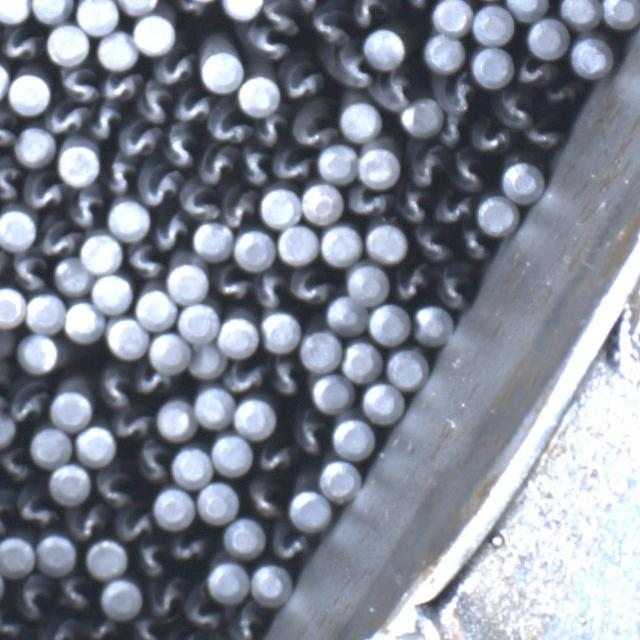tool: (199, 49, 242, 92), (9, 72, 52, 115), (232, 396, 276, 438), (58, 142, 100, 186), (252, 563, 294, 607), (65, 299, 107, 342), (108, 316, 150, 359), (299, 180, 342, 222), (346, 262, 389, 304), (208, 559, 250, 602), (196, 481, 238, 524), (223, 516, 266, 558), (321, 459, 362, 503), (17, 332, 61, 373), (232, 227, 274, 269), (133, 12, 175, 54), (218, 316, 260, 358), (362, 382, 404, 424), (369, 302, 411, 344), (358, 146, 400, 188), (154, 486, 196, 528), (332, 418, 374, 460), (48, 22, 90, 64), (76, 424, 118, 466), (289, 488, 331, 530), (150, 332, 192, 374), (321, 224, 363, 266), (502, 160, 544, 202), (136, 288, 178, 330), (36, 533, 78, 575), (299, 329, 341, 371), (413, 304, 455, 346), (156, 398, 196, 442), (194, 385, 234, 429), (312, 370, 356, 410), (260, 186, 302, 227), (237, 75, 279, 116), (276, 224, 318, 265), (50, 463, 91, 505), (170, 444, 211, 486), (86, 538, 128, 579), (364, 29, 406, 70), (260, 309, 300, 352), (51, 390, 92, 431), (572, 38, 613, 79), (27, 292, 67, 334), (476, 194, 518, 234), (213, 434, 253, 476), (386, 346, 426, 388), (192, 221, 234, 261), (339, 100, 381, 140), (472, 47, 514, 87), (108, 198, 150, 238), (100, 577, 140, 619), (166, 262, 208, 302), (91, 272, 133, 312), (81, 232, 123, 272), (364, 223, 406, 263), (326, 296, 368, 336), (527, 18, 568, 58), (474, 5, 514, 46), (342, 340, 382, 381), (178, 302, 218, 342), (316, 144, 356, 184), (16, 126, 56, 166), (30, 427, 70, 467), (97, 29, 138, 68), (424, 34, 465, 72), (401, 100, 442, 138), (0, 209, 37, 251), (76, 0, 120, 34), (0, 535, 34, 576), (434, 0, 474, 34), (559, 0, 601, 28), (0, 287, 27, 328), (602, 0, 640, 27), (32, 0, 72, 20), (505, 0, 549, 18), (222, 0, 264, 17), (0, 0, 29, 21), (117, 0, 159, 14), (0, 58, 9, 102)
tool_b: (326, 44, 374, 94), (15, 483, 60, 529), (293, 104, 337, 148), (145, 576, 187, 622), (137, 162, 180, 206), (308, 2, 350, 47), (242, 22, 288, 62), (280, 59, 322, 102), (8, 250, 51, 292), (406, 142, 446, 187), (10, 382, 50, 426), (181, 179, 221, 223), (16, 575, 54, 621), (90, 468, 132, 509), (207, 104, 250, 144), (66, 187, 106, 230), (436, 265, 475, 309), (56, 64, 98, 104), (198, 146, 238, 188), (95, 366, 132, 410), (24, 170, 64, 210), (56, 574, 96, 614), (182, 592, 222, 632), (288, 268, 330, 306), (161, 124, 197, 168), (154, 50, 198, 86), (152, 213, 191, 253), (124, 242, 164, 281), (134, 441, 170, 484), (136, 82, 172, 125), (36, 220, 76, 258), (119, 120, 159, 158), (0, 25, 40, 63), (392, 264, 432, 302), (244, 480, 284, 518), (436, 76, 474, 116), (370, 72, 410, 110), (272, 148, 314, 184), (412, 226, 454, 262), (222, 186, 258, 228), (100, 154, 136, 196), (268, 526, 310, 562), (223, 360, 266, 395), (344, 186, 388, 220), (212, 264, 250, 302), (496, 90, 534, 128), (434, 192, 476, 226), (293, 416, 328, 456), (262, 0, 302, 35), (172, 88, 210, 124), (70, 504, 108, 540), (86, 102, 122, 140), (236, 146, 270, 186), (268, 356, 302, 396), (450, 152, 484, 192), (168, 529, 208, 563), (110, 408, 152, 440), (256, 439, 294, 474), (115, 506, 154, 540), (254, 269, 288, 308), (133, 537, 167, 575), (227, 606, 265, 640), (46, 102, 86, 134), (455, 228, 491, 263), (254, 112, 289, 148), (472, 122, 511, 154), (396, 188, 430, 224), (100, 72, 138, 104), (134, 366, 172, 398), (0, 445, 32, 483), (515, 56, 554, 86), (36, 616, 84, 640), (526, 120, 564, 150), (435, 116, 467, 150), (347, 0, 388, 26), (0, 158, 21, 205), (543, 80, 577, 108), (168, 0, 218, 18), (132, 618, 166, 640), (0, 110, 16, 154), (394, 0, 438, 14)
